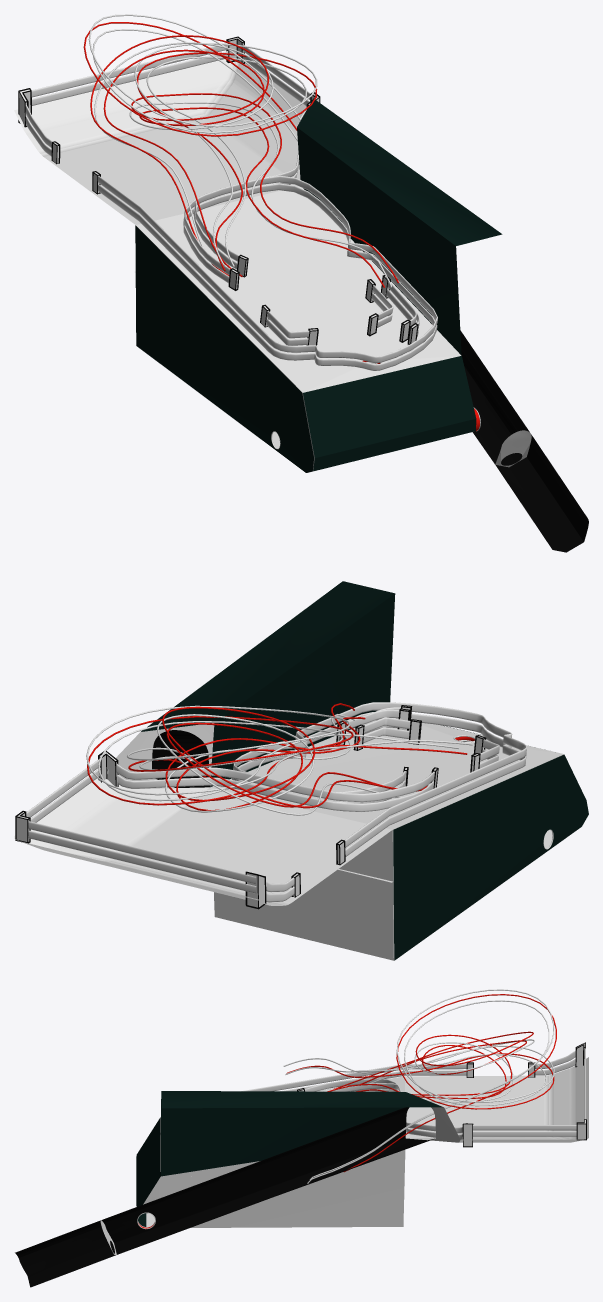
The model's file is FlipperChallenge_Final.fbx.
The picture shows the model from 3 angles, top to bottom: view 1: azimuth 30°, elevation 25°; view 2: azimuth 150°, elevation 25°; view 3: azimuth 270°, elevation 25°; orthographic projection. The views are drawn at different scales.
Parts seen in each view (by area): view 1: Structure, Walls, LaunchRail, FlipperRail, Bounds; view 2: Structure, Walls, LaunchRail, FlipperRail, Bounds; view 3: Structure, Walls, LaunchRail, FlipperRail, Bounds.
Part boxes in pixels (box(x1,y1,x2,y2)): Structure: box(14, 59, 588, 552); Walls: box(25, 43, 437, 370); LaunchRail: box(83, 14, 317, 271); FlipperRail: box(90, 35, 398, 287); Bounds: box(18, 36, 418, 345); Structure: box(14, 581, 588, 960); Walls: box(26, 702, 526, 902); LaunchRail: box(86, 705, 472, 805); FlipperRail: box(157, 703, 427, 815); Bounds: box(15, 705, 486, 909); Structure: box(15, 1057, 588, 1287); Walls: box(160, 1048, 585, 1139); LaunchRail: box(283, 989, 556, 1183); FlipperRail: box(327, 1031, 534, 1102); Bounds: box(297, 1042, 586, 1147).
Bounding box in the file's own units: 548 × 735 × 1594.
